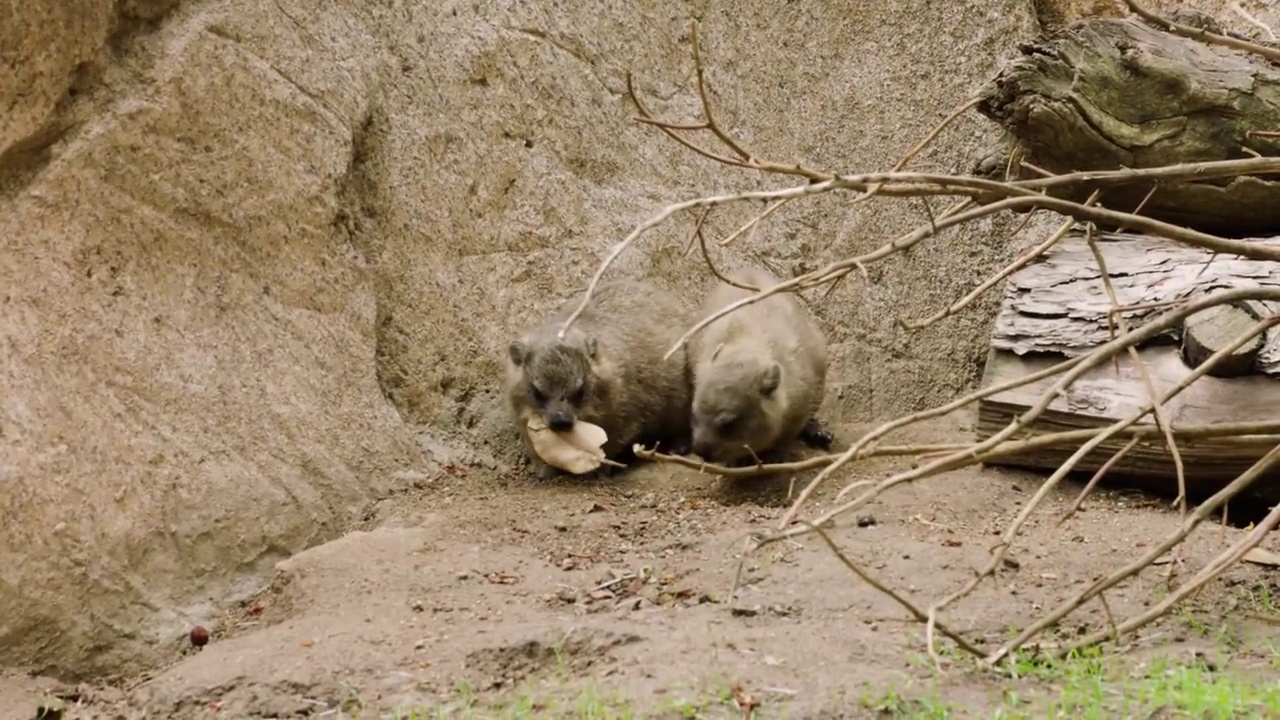Rock Hyrex: (504, 280, 695, 473), (688, 264, 829, 503)
